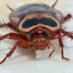cockroach: (9, 3, 64, 51)
